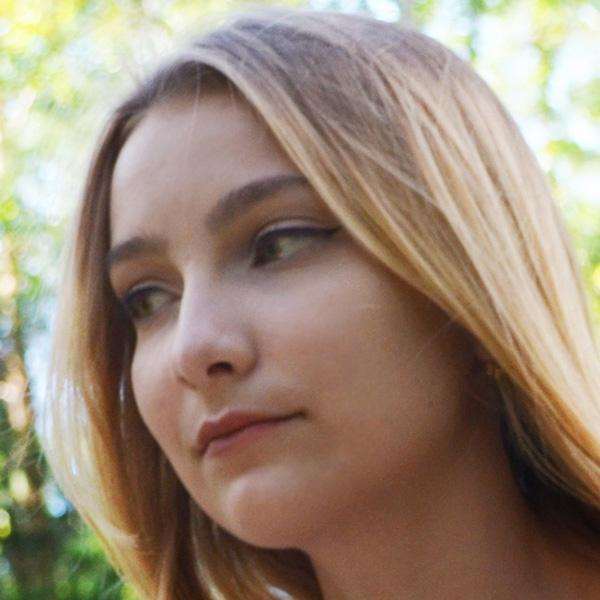Eyes: (236, 214, 348, 281), (118, 266, 189, 335)
